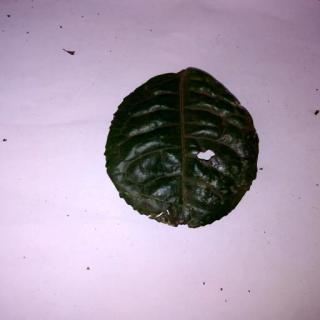Anthracnose: (106, 70, 257, 229)
